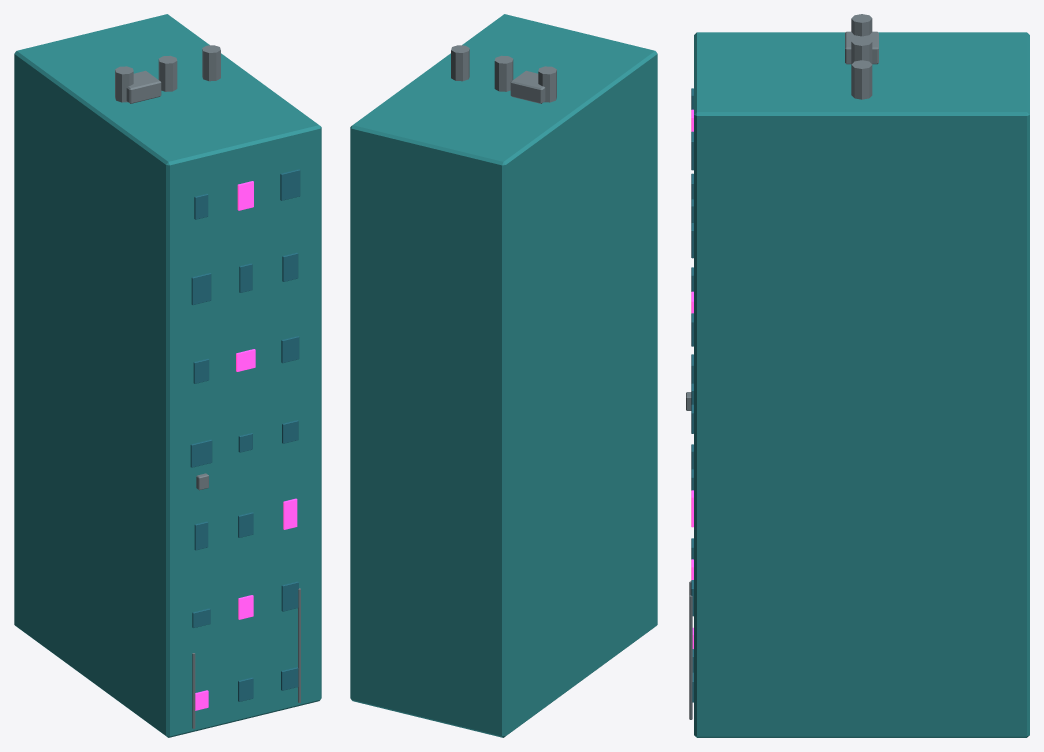
The model's file is building_008_seed11.glb.
The picture shows the model from 3 angles, left to right: view 1: azimuth 30°, elevation 25°; view 2: azimuth 150°, elevation 25°; view 3: azimuth 270°, elevation 25°; orthographic projection. The views are drawn at different scales.
Visible parts, largest first — view 1: building_008_seed11; view 2: building_008_seed11; view 3: building_008_seed11.
Boxes of the visible parts, x1=… form: building_008_seed11: x1=14, y1=14, x2=321, y2=737; building_008_seed11: x1=350, y1=14, x2=657, y2=737; building_008_seed11: x1=686, y1=14, x2=1029, y2=737.
Bounding box in the file's own units: 5.19 × 19.28 × 9.15.
